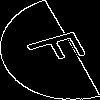F: (24, 25, 100, 70)
